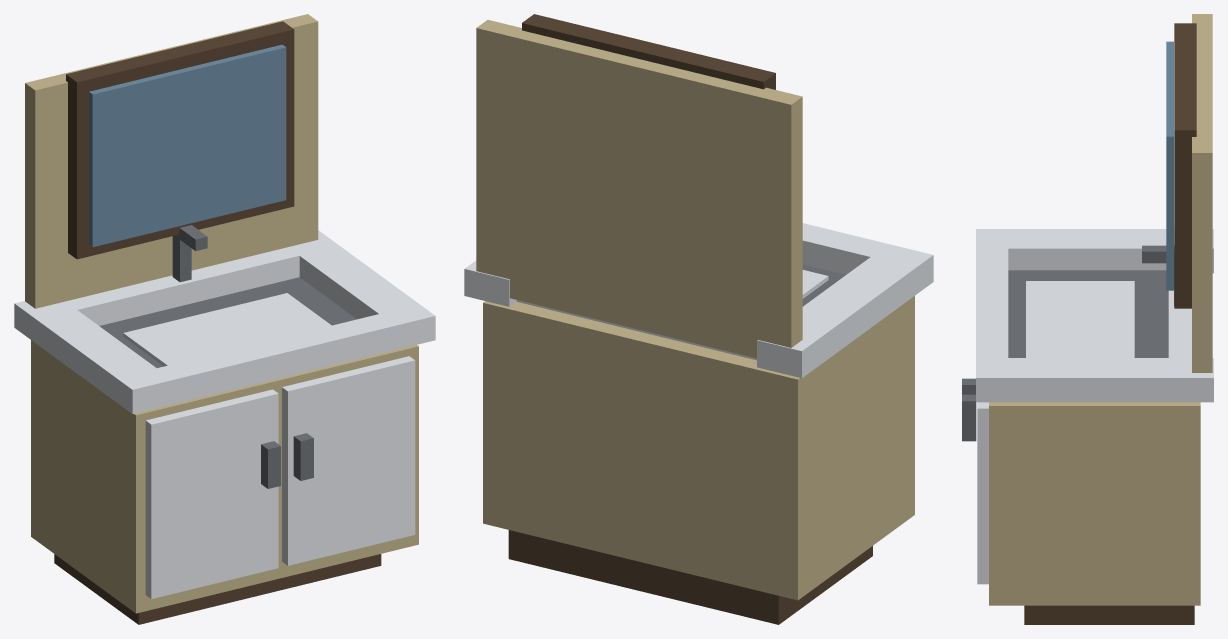
The model's file is prop-bathroom-vanity.glb.
3 renders of one model, left to right at view 1: azimuth 30°, elevation 25°; view 2: azimuth 150°, elevation 25°; view 3: azimuth 270°, elevation 25°, orthographic. The views are drawn at different scales.
Visible parts, largest first — view 1: blue_grey_mirror, cabinet_carcass, tile_splashback, cabinet_door_-0.135, cabinet_door_0.135, mirror_frame, sink_rim_-0.175, sink_side_-0.26, basin_bottom, sink_rim_0.153, sink_side_0.26, basin_recess (+4 smaller); view 2: cabinet_carcass, tile_splashback, sink_side_-0.26, recessed_plinth, mirror_frame, sink_rim_-0.175, sink_side_0.26; view 3: cabinet_carcass, sink_side_0.26, basin_bottom, tile_splashback, sink_side_-0.26, basin_recess, mirror_frame, sink_rim_-0.175, recessed_plinth, cabinet_door_0.135, blue_grey_mirror, sink_rim_0.153 (+2 smaller).
Part boxes in pixels (x1,y1,x2,y2): blue_grey_mirror: (89, 44, 286, 246); cabinet_carcass: (31, 340, 418, 613); tile_splashback: (25, 14, 318, 308); cabinet_door_-0.135: (145, 389, 278, 598); cabinet_door_0.135: (282, 356, 415, 565); mirror_frame: (66, 21, 294, 259); sink_rim_-0.175: (157, 314, 395, 404); sink_side_-0.26: (14, 301, 172, 413); basin_bottom: (123, 293, 331, 366); sink_rim_0.153: (66, 247, 299, 325); sink_side_0.26: (288, 230, 435, 349); basin_recess: (99, 277, 356, 367); cabinet_carcass: (483, 296, 914, 600); tile_splashback: (476, 20, 802, 358); sink_side_-0.26: (757, 244, 933, 378); recessed_plinth: (508, 530, 872, 624); mirror_frame: (522, 14, 775, 89); sink_rim_-0.175: (802, 223, 887, 274); sink_side_0.26: (464, 260, 516, 306); cabinet_carcass: (989, 402, 1200, 605); sink_side_0.26: (976, 358, 1213, 402); basin_bottom: (1026, 281, 1134, 357); tile_splashback: (1192, 14, 1212, 372); sink_side_-0.26: (976, 229, 1213, 273); basin_recess: (1008, 270, 1168, 357); mirror_frame: (1174, 23, 1196, 308); sink_rim_-0.175: (976, 248, 1008, 357); recessed_plinth: (1024, 605, 1194, 624); cabinet_door_0.135: (977, 402, 988, 584); blue_grey_mirror: (1166, 41, 1173, 290); sink_rim_0.153: (1168, 290, 1191, 357).
Bounding box in the file's own units: 0.6 × 0.9175 × 0.4285.
